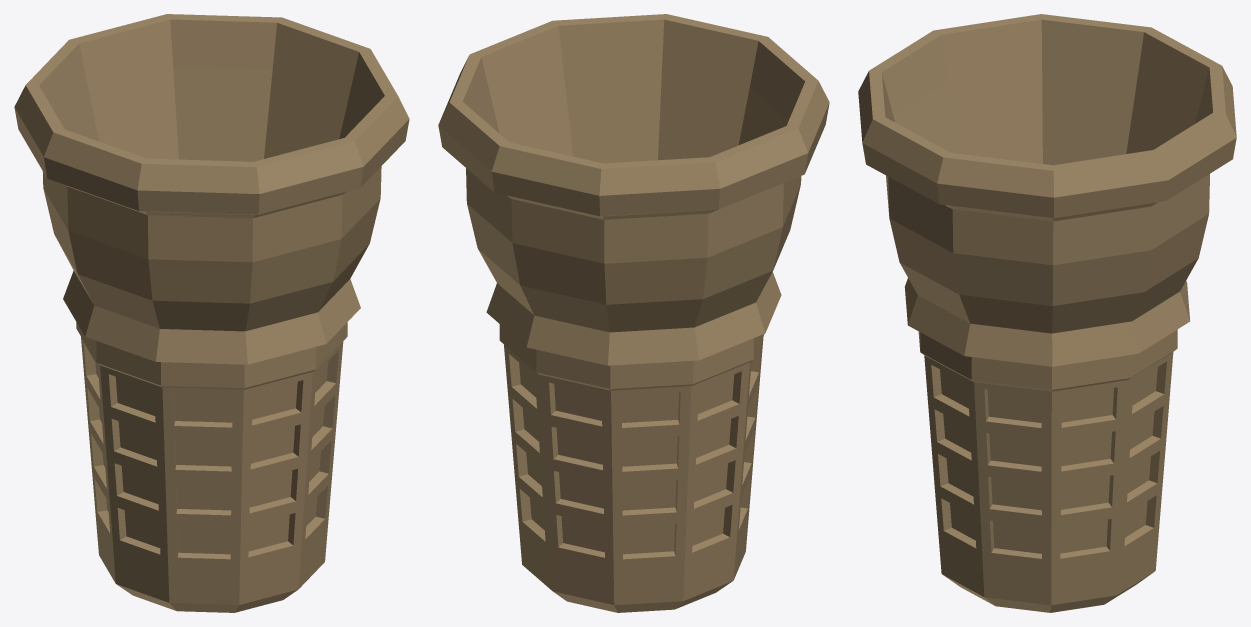
The model's file is quaternius-ultimate-food-icecream-cone-2.glb.
3 views of the same model, side by side, from view 1: azimuth 30°, elevation 25°; view 2: azimuth 150°, elevation 25°; view 3: azimuth 270°, elevation 25° (orthographic).
Parts seen in each view (by area): view 1: IceCream_Cone2; view 2: IceCream_Cone2; view 3: IceCream_Cone2.
Boxes of the visible parts, x1=… form: IceCream_Cone2: x1=14, y1=14, x2=409, y2=612; IceCream_Cone2: x1=438, y1=14, x2=829, y2=612; IceCream_Cone2: x1=858, y1=14, x2=1236, y2=612.
Size of the model in its own units: 0.4668 by 0.6297 by 0.4488.
